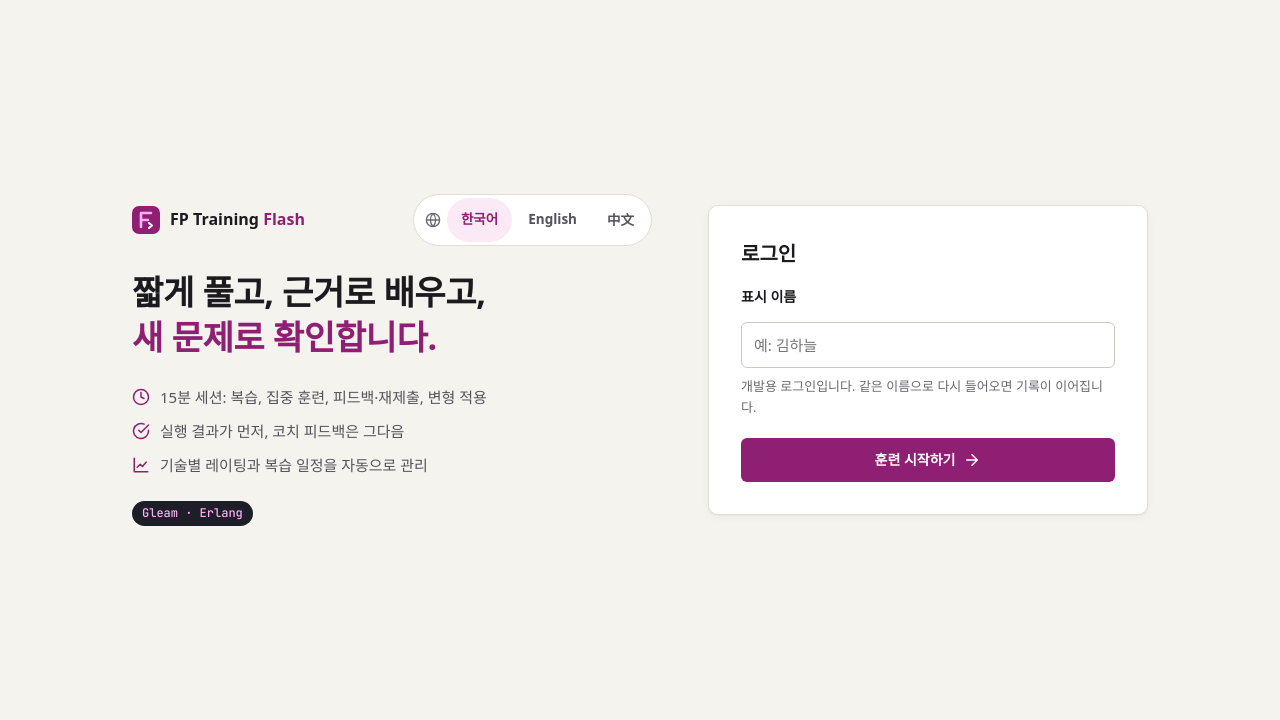
Test: language switching › switches on the login screen and sends the choice with dev-login
Click the button "English".
click(553, 220)  # box [514, 198, 591, 242]
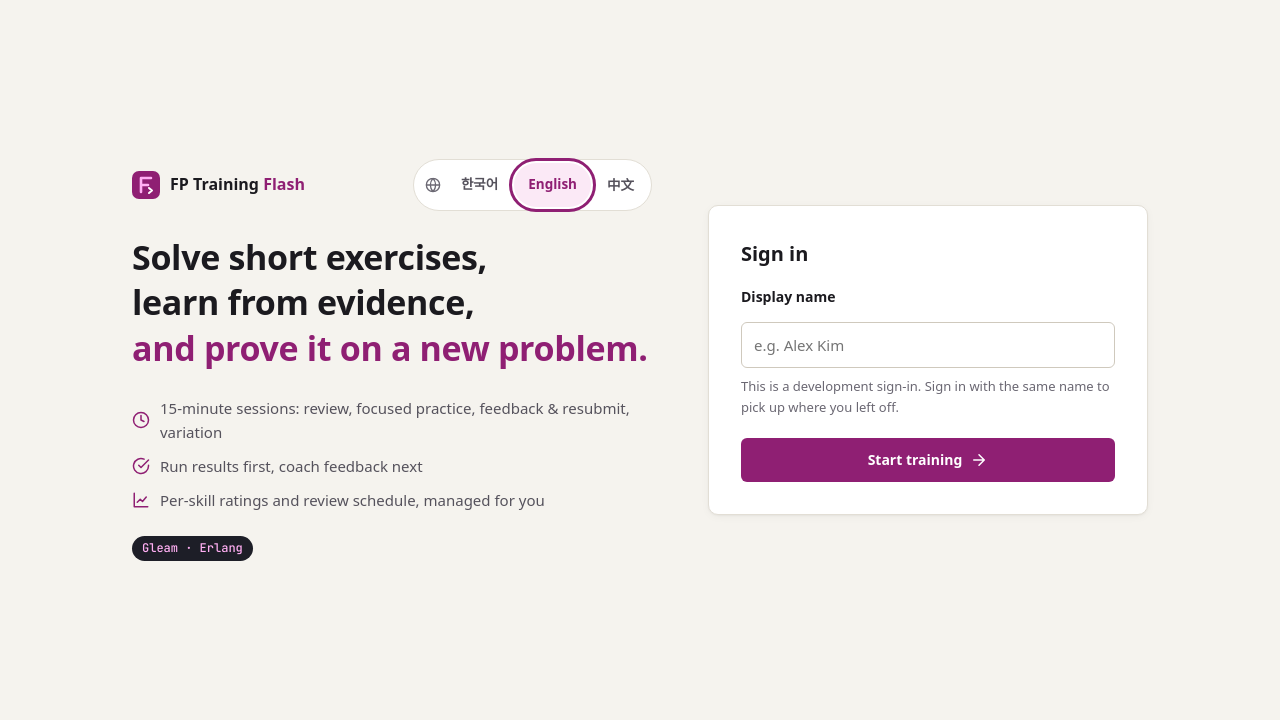
Now the heading "Sign in" is shown, box [741, 240, 808, 267]
Click the button "Start training".
click(928, 460)  # box [741, 438, 1115, 482]
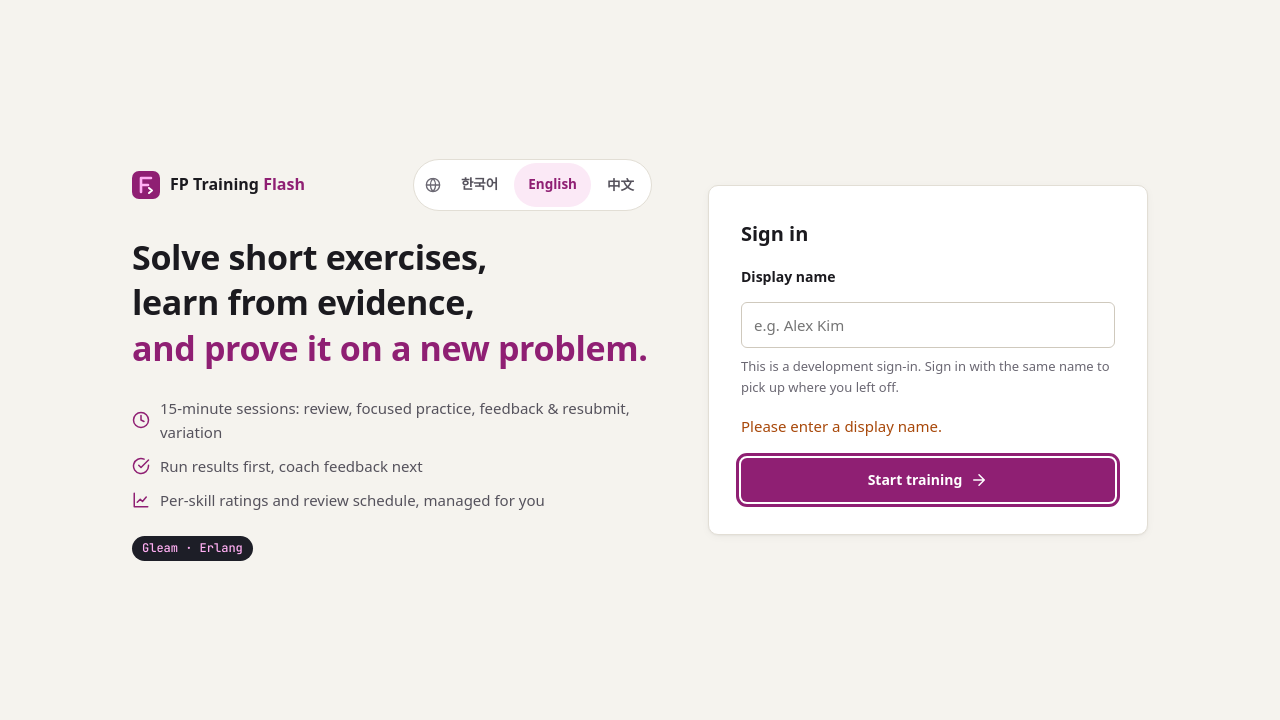
Now the message reads "Please enter a display name.", box [741, 416, 942, 436]
Type "Alex" into the field labelled "Display name".
click(928, 325); type("Alex")  # box [741, 302, 1115, 348]
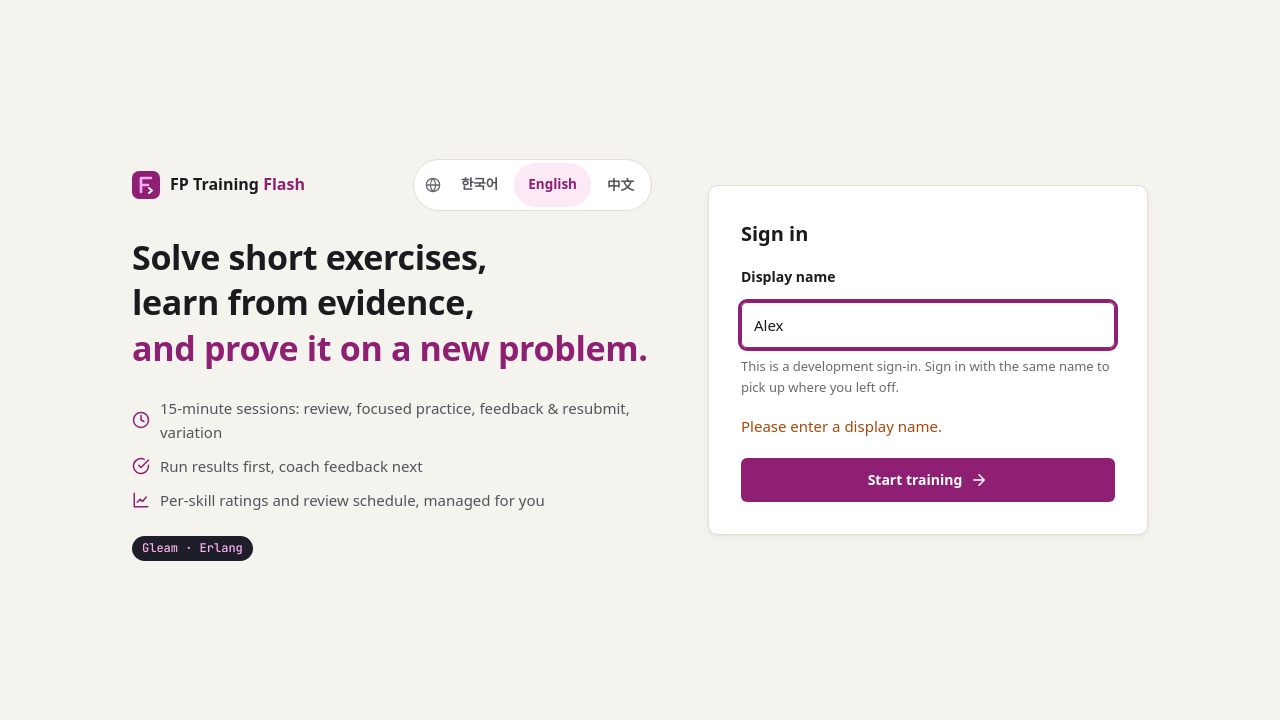
Click the button "Start training".
click(928, 480)  # box [741, 458, 1115, 502]
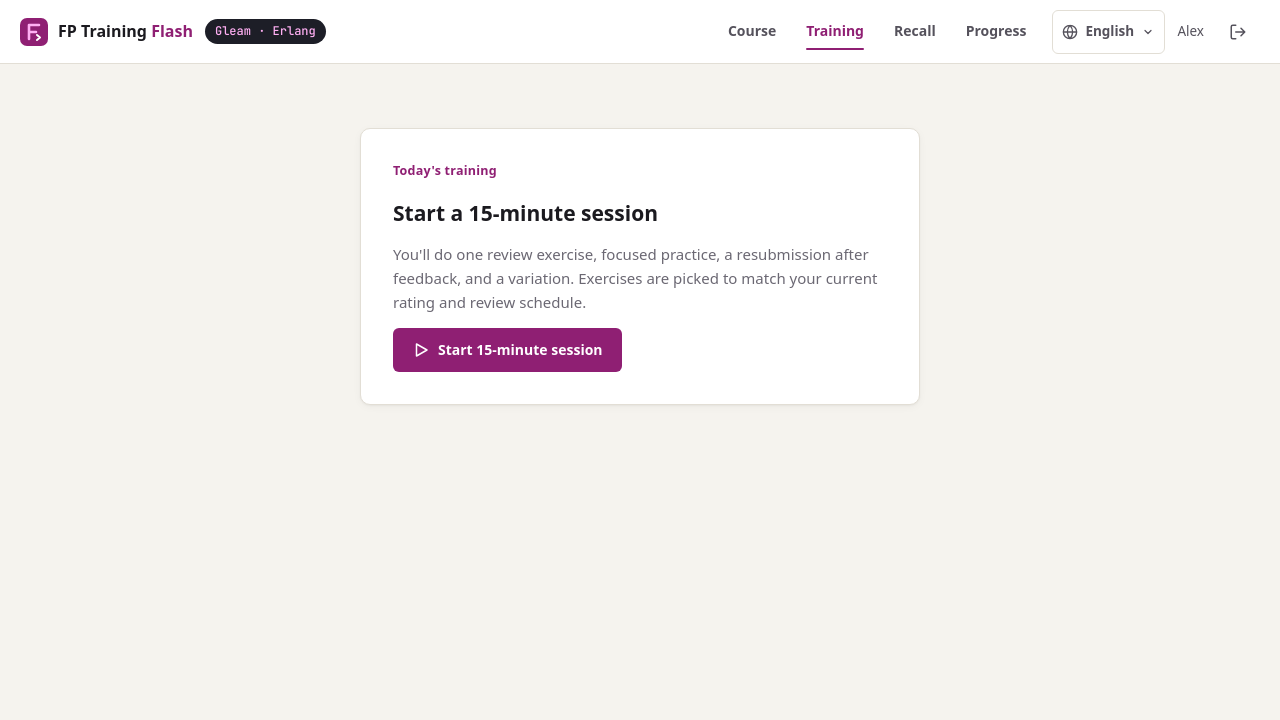
Now the button "Start 15-minute session" is shown, box [393, 328, 622, 372]
